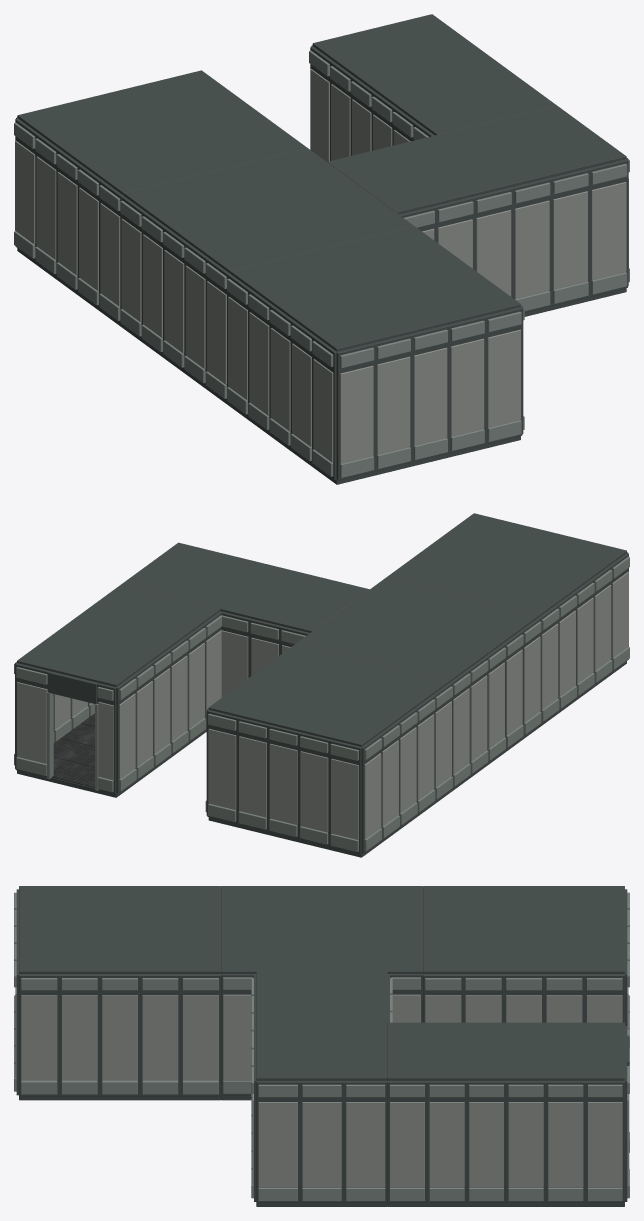
File: ship_layout_b.glb
3 views of the same model, one above another, from view 1: azimuth 30°, elevation 25°; view 2: azimuth 150°, elevation 25°; view 3: azimuth 270°, elevation 25° (orthographic). The views are drawn at different scales.
Parts seen in each view (by area): view 1: airlock structural_graphite, airlock wall_airlock, quarters structural_graphite, common structural_graphite, passage structural_graphite, turn structural_graphite, passage wall_technical, quarters wall_quarters, common wall_common, airlock brushed_edges, turn wall_technical, passage brushed_edges (+3 smaller); view 2: quarters structural_graphite, quarters wall_quarters, turn structural_graphite, common structural_graphite, airlock structural_graphite, passage structural_graphite, turn wall_technical, airlock wall_airlock, common wall_common, quarters brushed_edges, turn brushed_edges, passage wall_technical (+4 smaller); view 3: airlock structural_graphite, turn structural_graphite, quarters structural_graphite, passage structural_graphite, turn wall_technical, common structural_graphite, airlock wall_airlock, passage wall_technical, turn brushed_edges, airlock brushed_edges, quarters wall_quarters, passage brushed_edges (+3 smaller).
Boxes of the visible parts, x1=… form: airlock structural_graphite: x1=228, y1=226, x2=523, y2=484; airlock wall_airlock: x1=228, y1=297, x2=520, y2=463; quarters structural_graphite: x1=15, y1=70, x2=307, y2=328; common structural_graphite: x1=121, y1=148, x2=414, y2=406; passage structural_graphite: x1=327, y1=105, x2=628, y2=316; turn structural_graphite: x1=310, y1=14, x2=556, y2=160; passage wall_technical: x1=422, y1=179, x2=628, y2=298; quarters wall_quarters: x1=15, y1=141, x2=120, y2=306; common wall_common: x1=121, y1=218, x2=226, y2=384; airlock brushed_edges: x1=227, y1=278, x2=524, y2=477; turn wall_technical: x1=310, y1=69, x2=410, y2=161; passage brushed_edges: x1=404, y1=160, x2=629, y2=311; quarters structural_graphite: x1=206, y1=643, x2=451, y2=857; quarters wall_quarters: x1=208, y1=701, x2=451, y2=839; turn structural_graphite: x1=15, y1=585, x2=221, y2=797; common structural_graphite: x1=297, y1=578, x2=540, y2=792; airlock structural_graphite: x1=386, y1=513, x2=628, y2=727; passage structural_graphite: x1=121, y1=542, x2=369, y2=677; turn wall_technical: x1=17, y1=630, x2=221, y2=780; airlock wall_airlock: x1=541, y1=572, x2=628, y2=709; common wall_common: x1=453, y1=636, x2=540, y2=774; quarters brushed_edges: x1=205, y1=686, x2=452, y2=851; turn brushed_edges: x1=14, y1=615, x2=222, y2=792; passage wall_technical: x1=220, y1=611, x2=290, y2=697; airlock structural_graphite: x1=16, y1=886, x2=220, y2=1100; turn structural_graphite: x1=387, y1=1022, x2=629, y2=1206; quarters structural_graphite: x1=423, y1=886, x2=627, y2=1025; passage structural_graphite: x1=254, y1=971, x2=389, y2=1206; turn wall_technical: x1=389, y1=1094, x2=628, y2=1187; common structural_graphite: x1=221, y1=886, x2=422, y2=1100; airlock wall_airlock: x1=15, y1=987, x2=218, y2=1080; passage wall_technical: x1=252, y1=1094, x2=385, y2=1187; turn brushed_edges: x1=389, y1=1029, x2=629, y2=1201; airlock brushed_edges: x1=14, y1=892, x2=218, y2=1094; quarters wall_quarters: x1=425, y1=987, x2=628, y2=1029; passage brushed_edges: x1=251, y1=978, x2=392, y2=1201.
Bounding box in the file's own units: 9.2 × 2.82 × 12.2.
14 materials, 3 textured.
